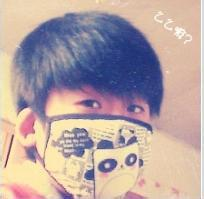OK: (39, 86, 157, 199)
